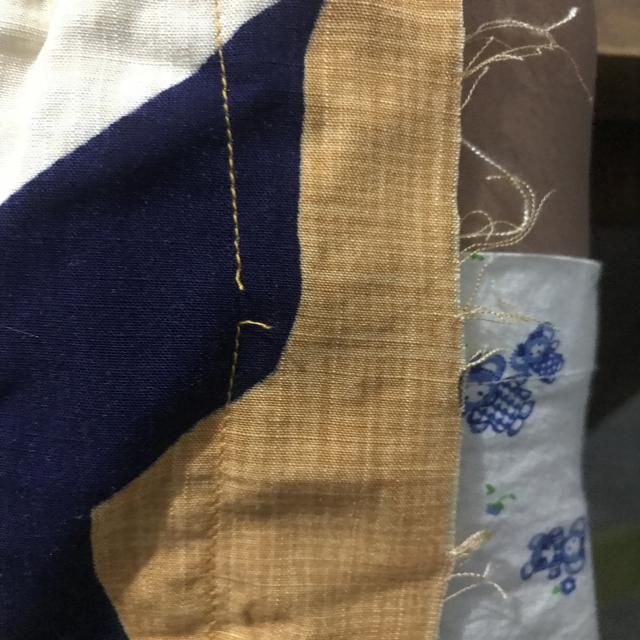broken: (214, 245, 283, 348)
good: (209, 115, 261, 221)
